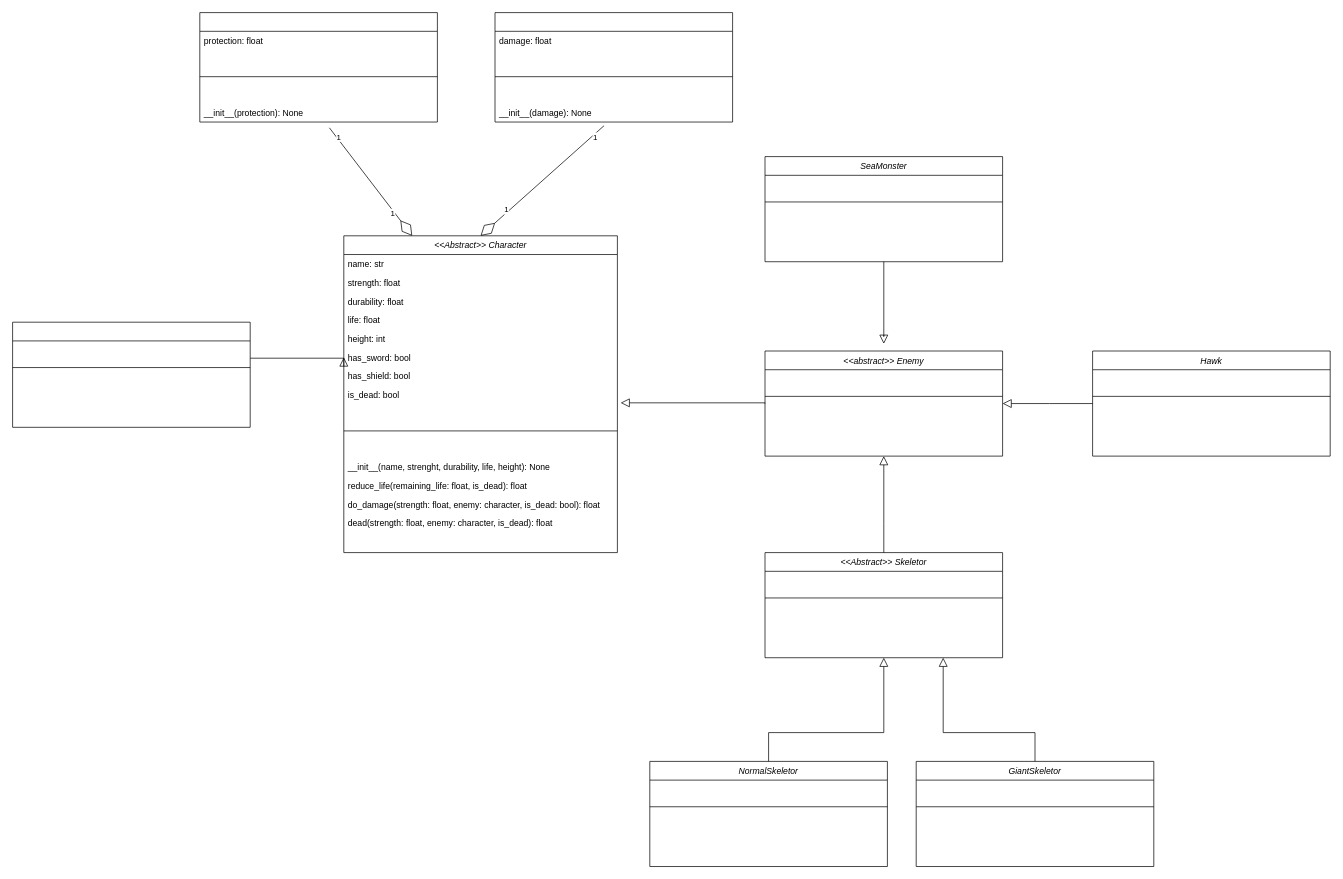
Image size: 1343x879. Some labels were removed from this diagram. Each missing label, with the box of its shape:
Player: (12, 321, 250, 427)
Shield: (199, 12, 437, 122)
Sword: (494, 12, 733, 122)
